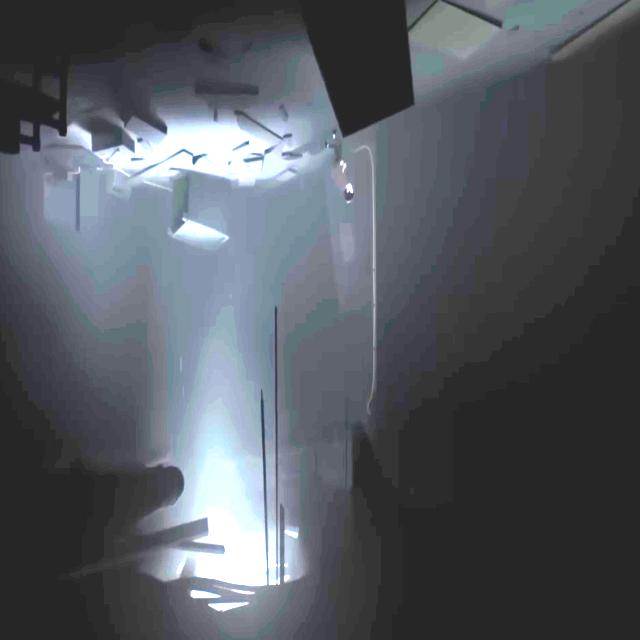boy: (324, 128, 355, 202)
